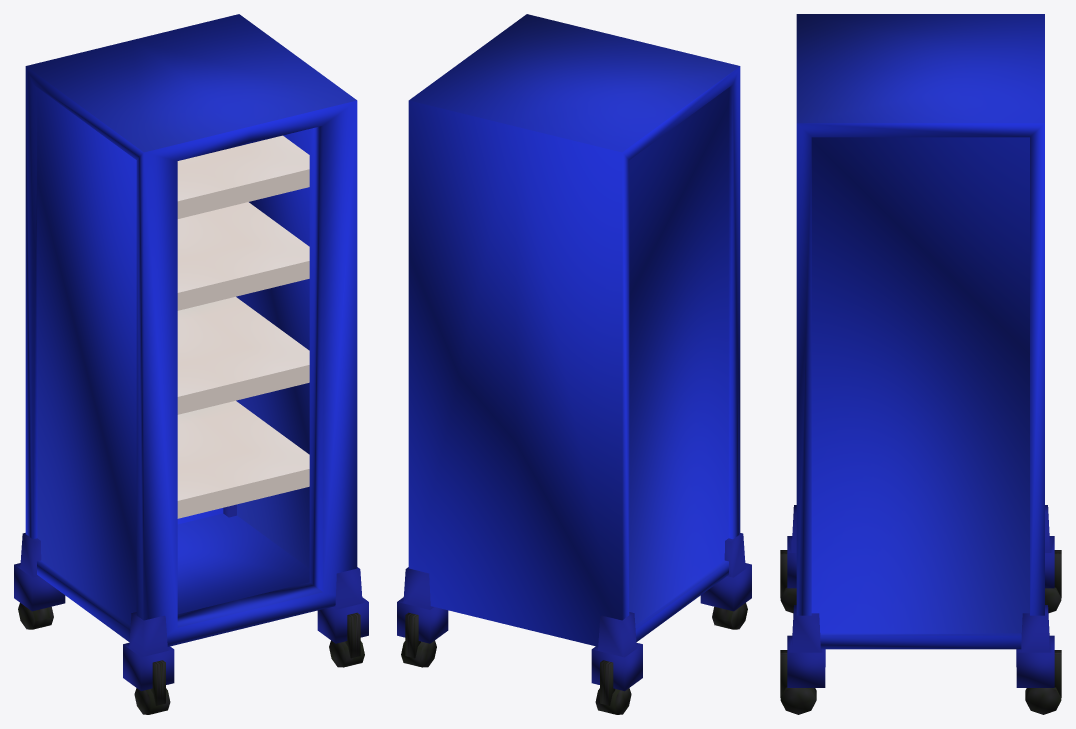
File: EstanteRemedios.fbx
The picture shows the model from 3 angles, left to right: view 1: azimuth 30°, elevation 25°; view 2: azimuth 150°, elevation 25°; view 3: azimuth 270°, elevation 25°; orthographic projection. The views are drawn at different scales.
Visible parts, largest first — view 1: EstanteRemedios; view 2: EstanteRemedios; view 3: EstanteRemedios.
Boxes of the visible parts, x1=… form: EstanteRemedios: x1=14, y1=14, x2=368, y2=714; EstanteRemedios: x1=397, y1=14, x2=751, y2=714; EstanteRemedios: x1=780, y1=14, x2=1061, y2=714.
Bounding box in the file's own units: 73.98 × 175 × 75.22.
Materials: 1 (1 with a texture image).
